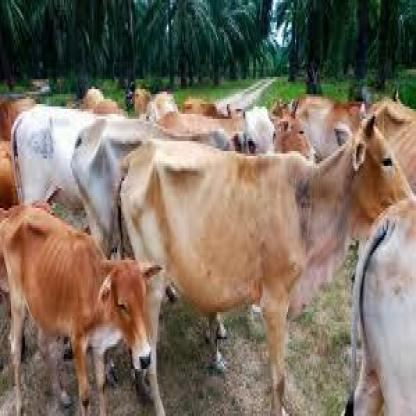cow: (115, 111, 416, 416), (0, 200, 162, 416), (71, 105, 277, 271), (343, 195, 416, 416), (10, 105, 108, 209), (361, 97, 416, 199), (292, 96, 369, 162), (270, 98, 323, 164)
